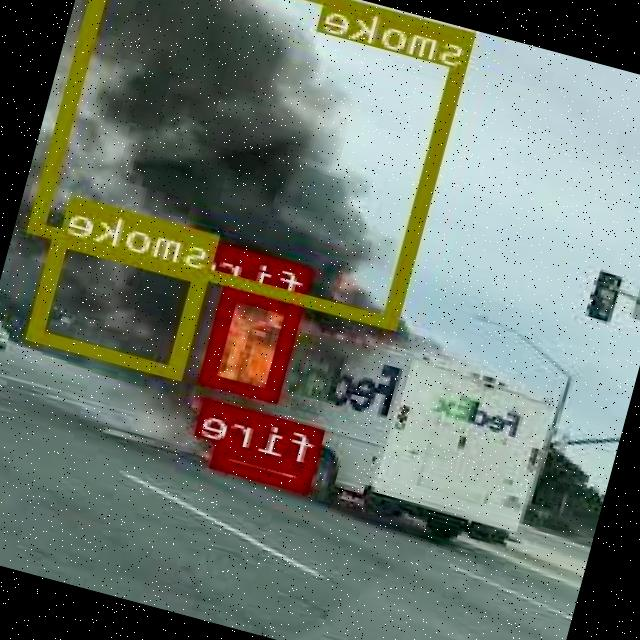fire: (202, 284, 306, 401), (214, 440, 316, 490)
smoke: (31, 0, 478, 328), (31, 232, 211, 379)
